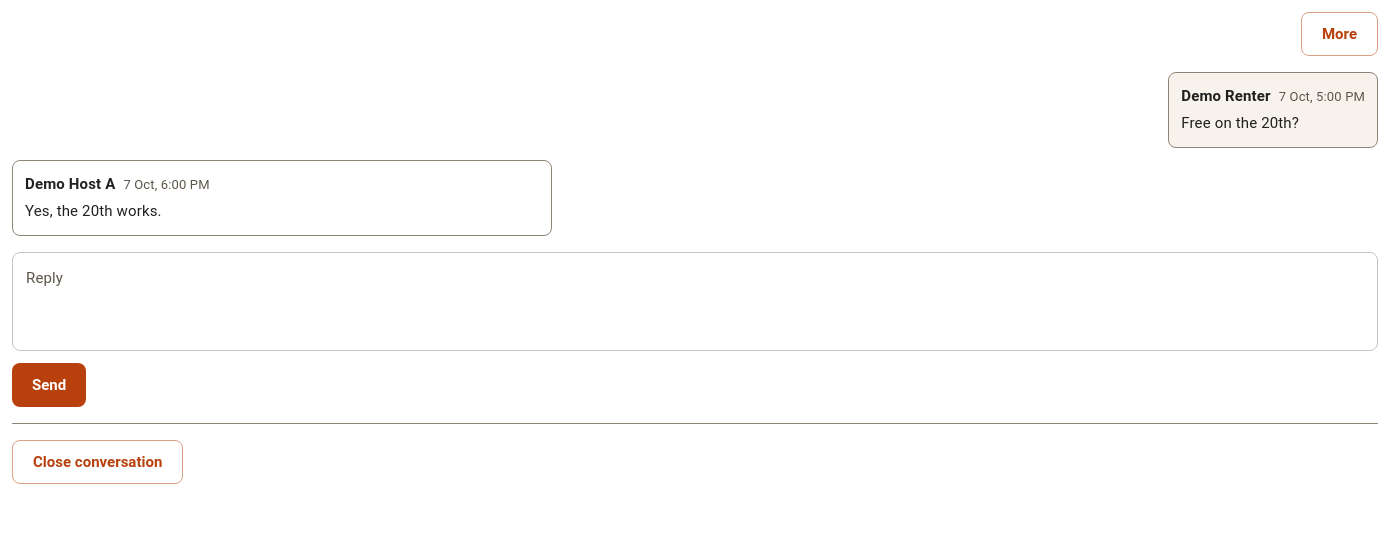
Test: cancelling the confirmation sends nothing
The image size is (1390, 536).
Click the button "Close conversation" at (98, 462), box [12,440,183,484]
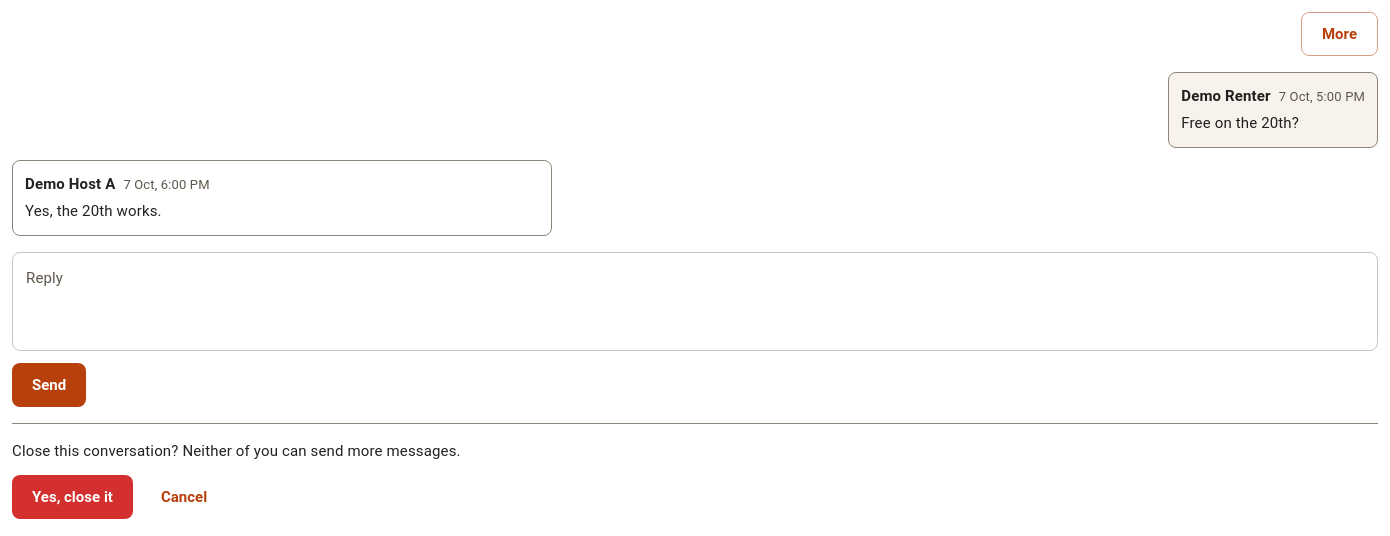
Click the button "Cancel" at (184, 497), box [141,475,227,519]
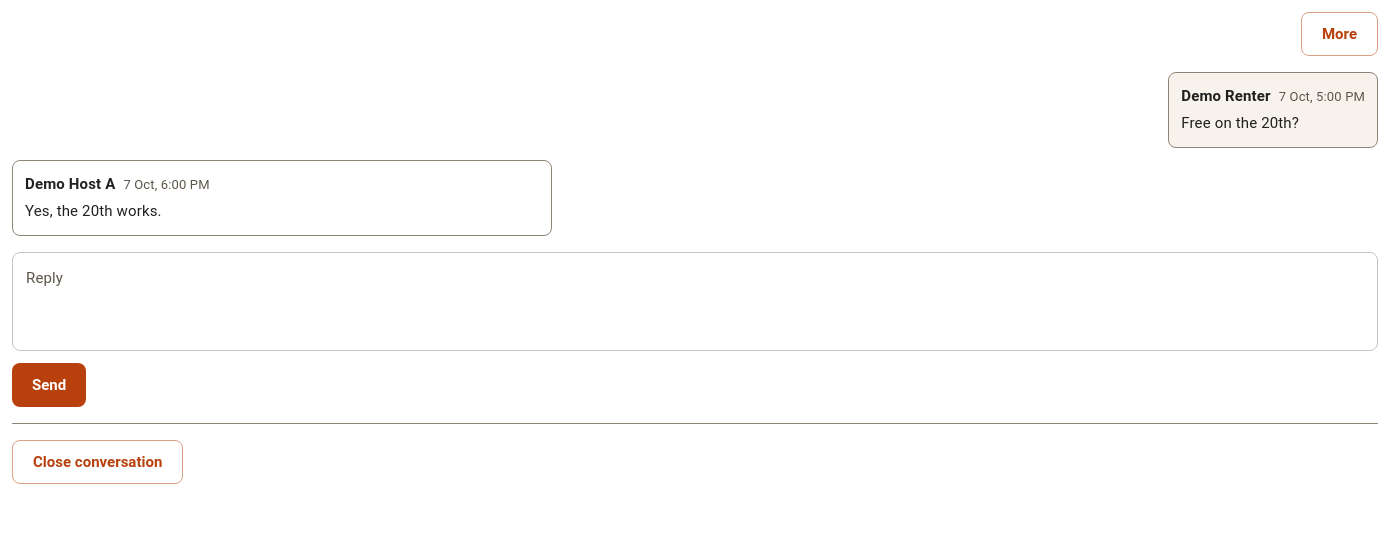
expect the button "Close conversation" is shown: met, box [12,440,183,484]
